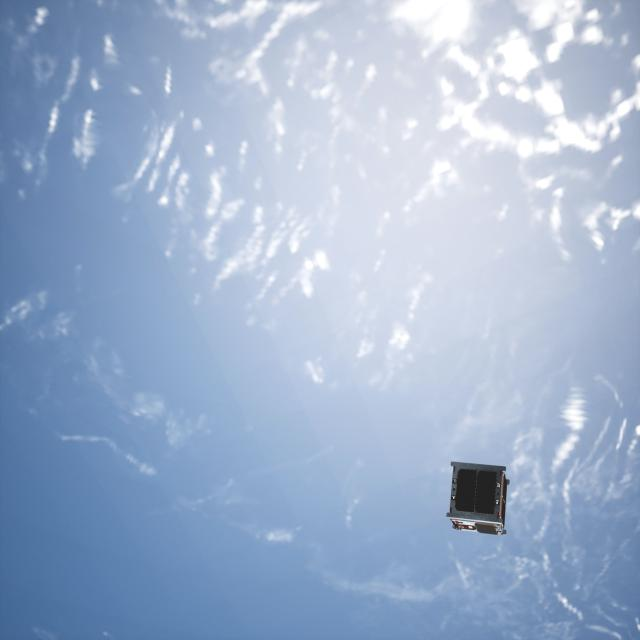satellite: (449, 459, 511, 539)
